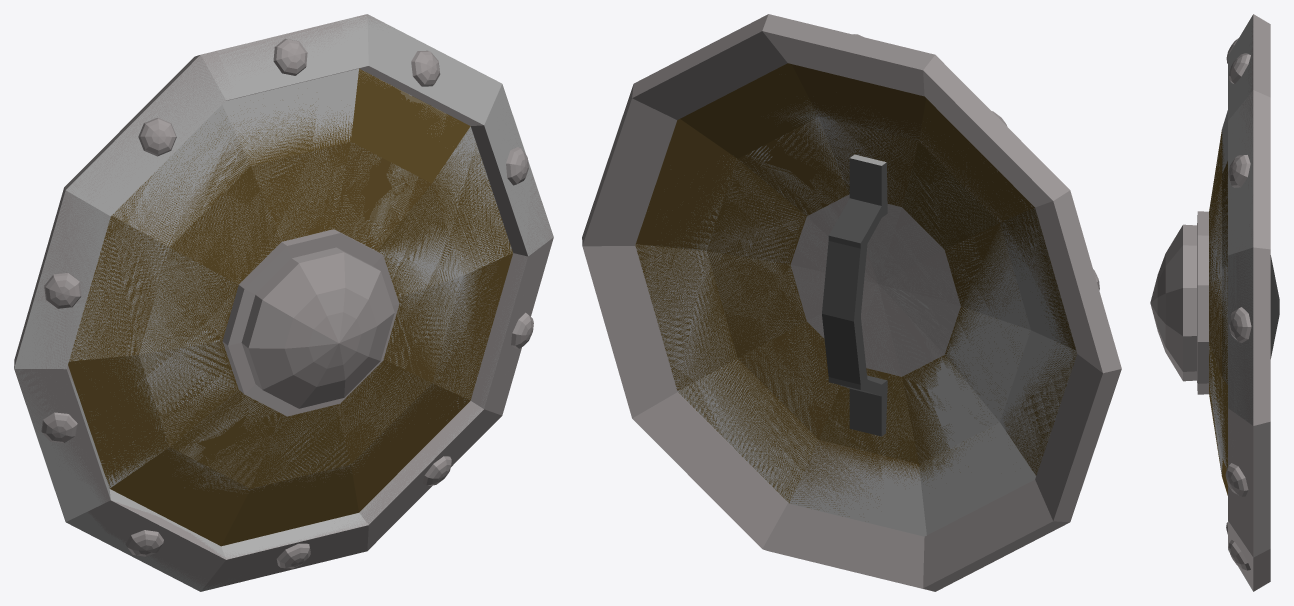
Rendered from Shield_1_round.fbx.
The picture shows the model from 3 angles, left to right: view 1: azimuth 30°, elevation 25°; view 2: azimuth 150°, elevation 25°; view 3: azimuth 270°, elevation 25°; orthographic projection. The views are drawn at different scales.
Visible parts, largest first — view 1: polySurface22; view 2: polySurface22; view 3: polySurface22.
Boxes of the visible parts, x1=… form: polySurface22: x1=14, y1=14, x2=553, y2=591; polySurface22: x1=582, y1=14, x2=1121, y2=591; polySurface22: x1=1150, y1=14, x2=1279, y2=591.
Size of the model in its own units: 3.37 by 3.2 by 0.748.
